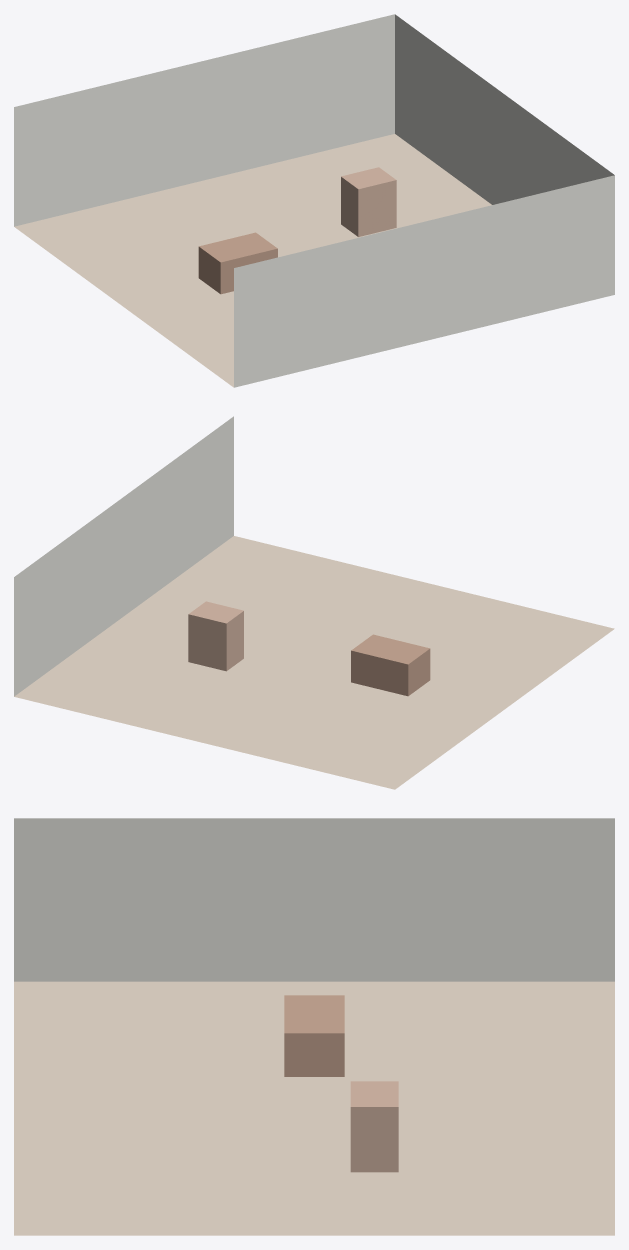
File: living-room.glb
3 renders of one model, top to bottom at view 1: azimuth 30°, elevation 25°; view 2: azimuth 150°, elevation 25°; view 3: azimuth 270°, elevation 25°, orthographic. The views are drawn at different scales.
Parts seen in each view (by area): view 1: Walls, Floor, Furniture2, Furniture1; view 2: Floor, Walls, Furniture1, Furniture2; view 3: Floor, Walls, Furniture1, Furniture2.
Boxes of the visible parts, x1,y1,x2,y2 form: Walls: [14, 14, 614, 387]; Floor: [14, 134, 491, 387]; Furniture2: [341, 167, 396, 236]; Furniture1: [198, 232, 277, 294]; Floor: [14, 536, 614, 789]; Walls: [14, 416, 233, 696]; Furniture1: [351, 634, 430, 696]; Furniture2: [188, 601, 243, 671]; Floor: [14, 981, 614, 1235]; Walls: [14, 818, 614, 981]; Furniture1: [284, 995, 344, 1076]; Furniture2: [350, 1081, 398, 1172].
Bounding box in the file's own units: 10 × 3 × 10.
